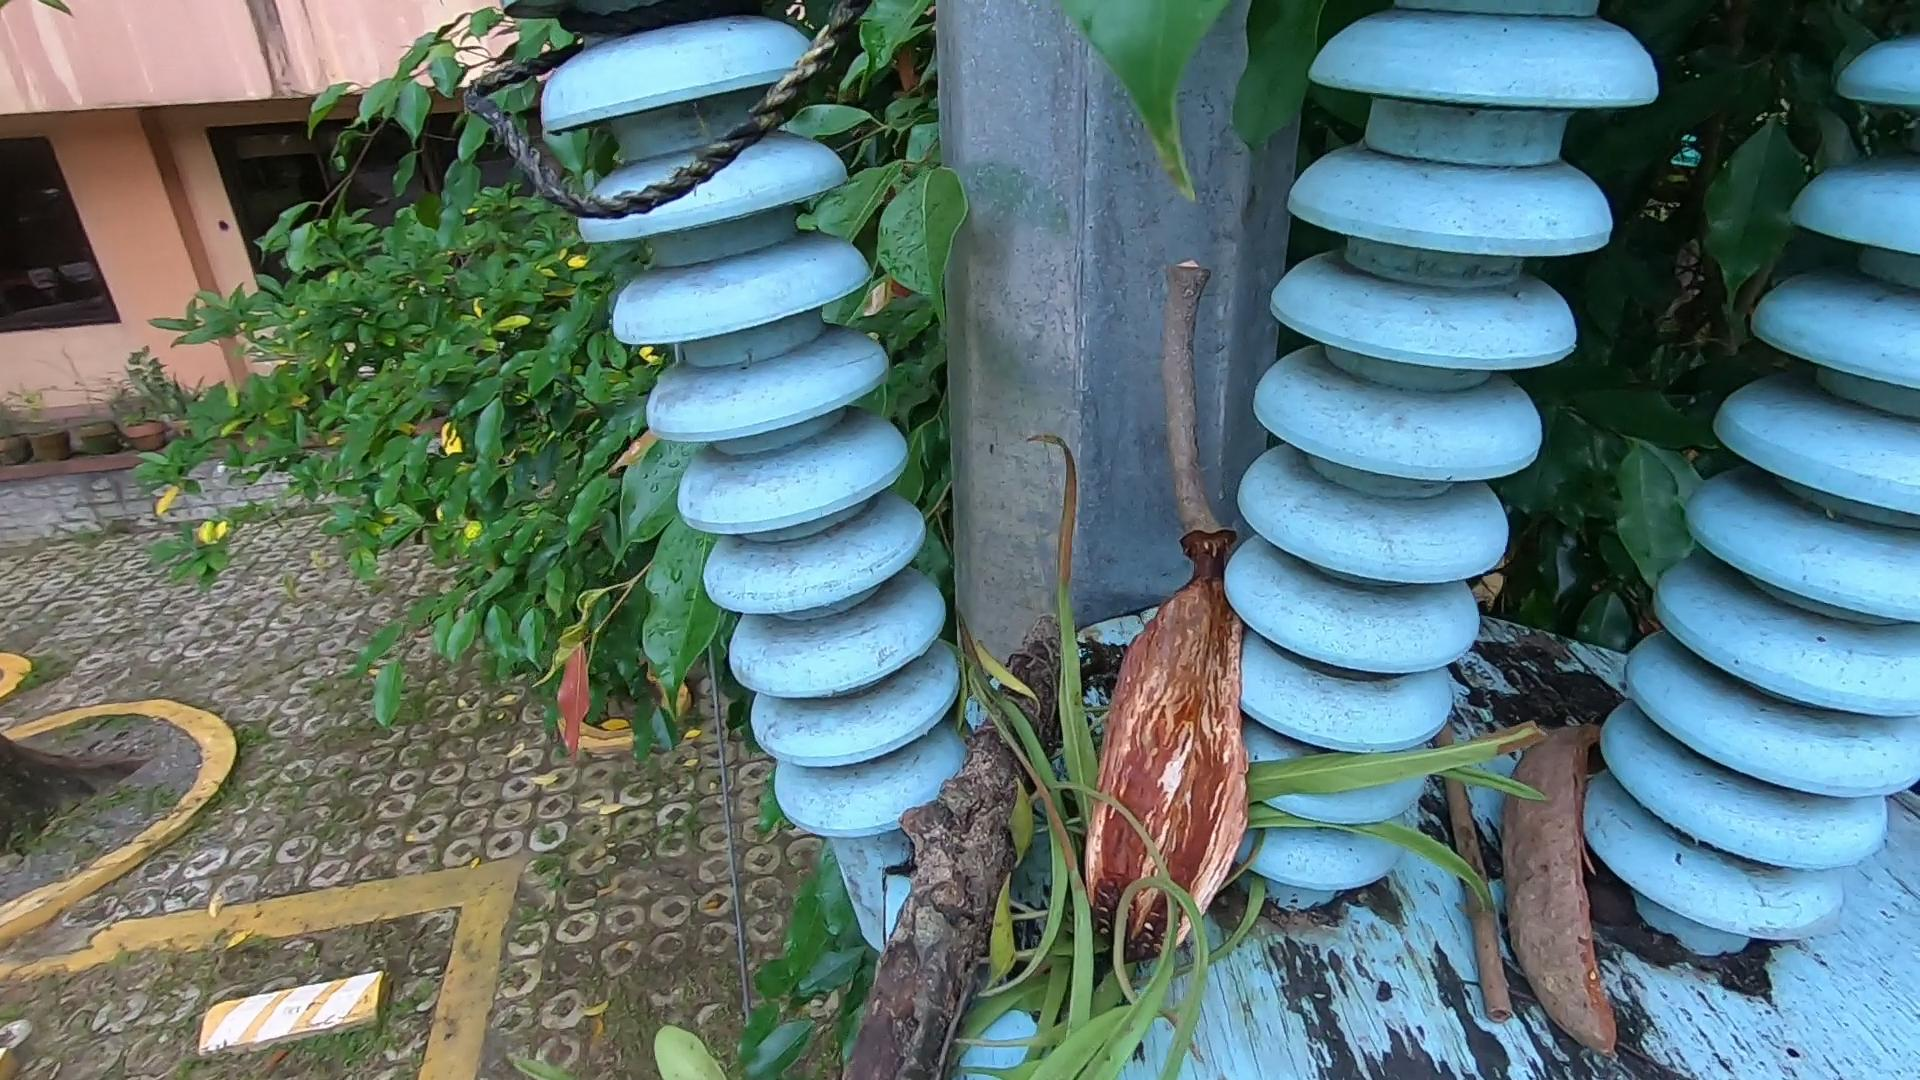branch with leaves: (849, 415, 1552, 1080)
mahogany fruit: (1481, 665, 1660, 1054), (1141, 568, 1335, 926)
tree branch: (1435, 732, 1547, 1036), (1145, 240, 1253, 553)
